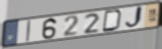2: (83, 12, 101, 35), (63, 15, 80, 38)
6: (42, 17, 59, 40)
D: (101, 9, 124, 33)
I: (25, 20, 32, 43)
J: (124, 5, 144, 31)
